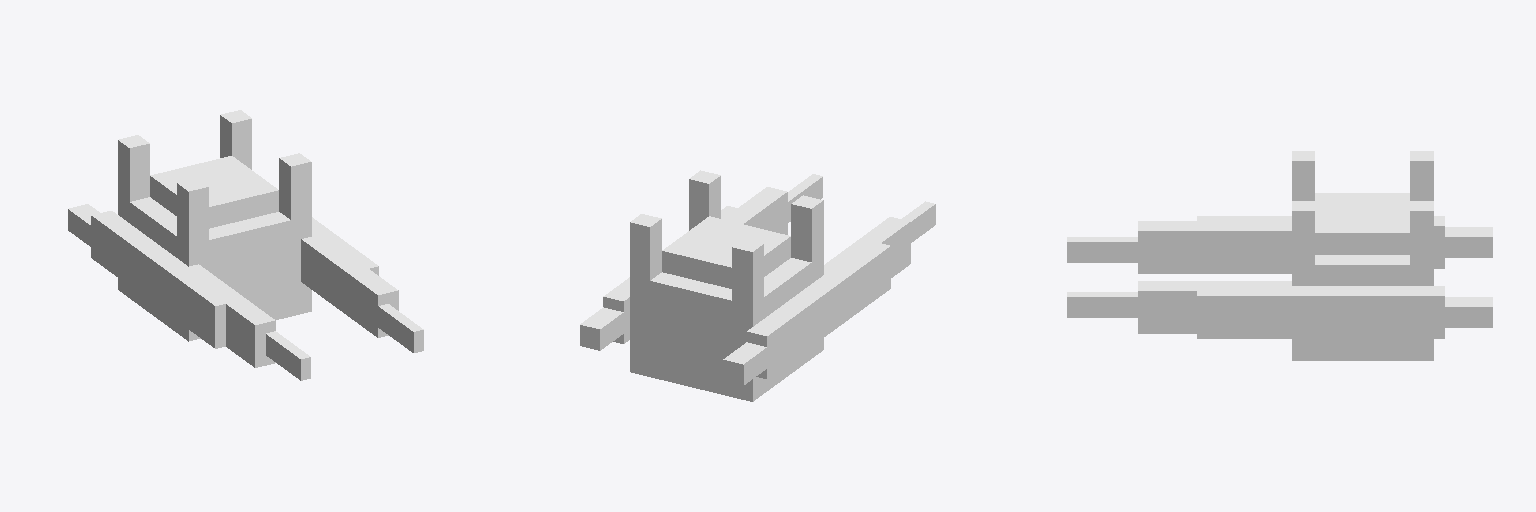
The model's file is RangeTower1_Top.obj.
3 views of the same model, side by side, from view 1: azimuth 30°, elevation 25°; view 2: azimuth 150°, elevation 25°; view 3: azimuth 270°, elevation 25° (orthographic).
Parts seen in each view (by area): view 1: RangeTower1_Top; view 2: RangeTower1_Top; view 3: RangeTower1_Top.
Part boxes in pixels (bbox=[...]): RangeTower1_Top: bbox=[68, 110, 423, 380]; RangeTower1_Top: bbox=[580, 170, 935, 401]; RangeTower1_Top: bbox=[1067, 151, 1492, 360].
Size of the model in its own units: 16 by 14 by 36.